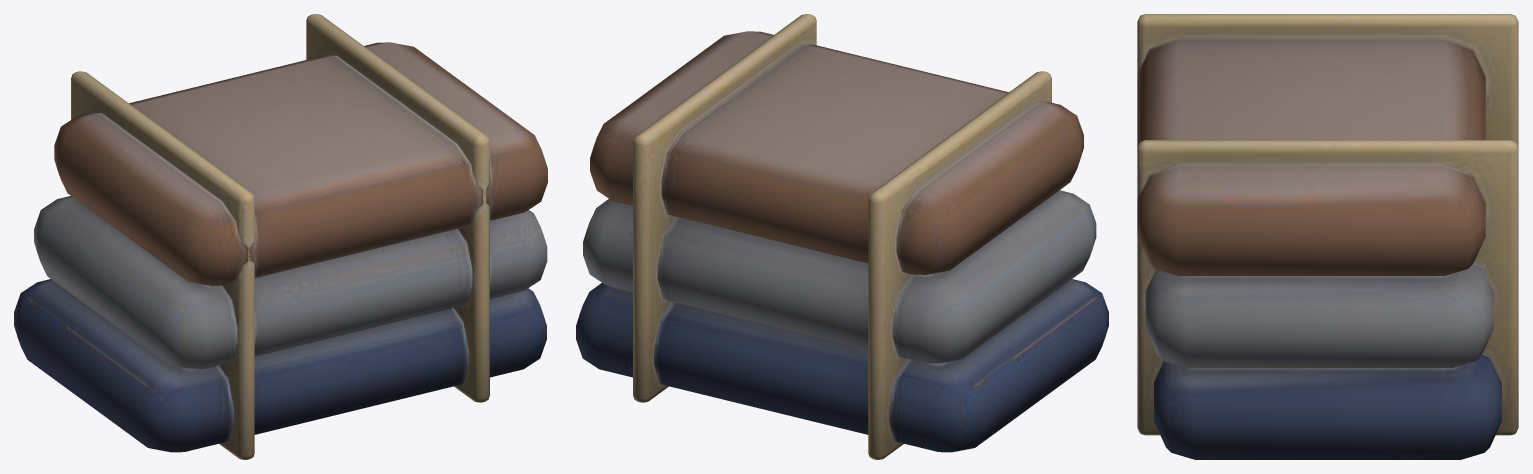
Rendered from item_blanket.glb.
3 renders of one model, left to right at view 1: azimuth 30°, elevation 25°; view 2: azimuth 150°, elevation 25°; view 3: azimuth 270°, elevation 25°, orthographic. The views are drawn at different scales.
Visible parts, largest first — view 1: item_blanket; view 2: item_blanket; view 3: item_blanket.
Boxes of the visible parts, left/top/right/bottom form: item_blanket: left=14, top=14, right=547, bottom=459; item_blanket: left=576, top=14, right=1108, bottom=459; item_blanket: left=1137, top=14, right=1518, bottom=459.
Size of the model in its own units: 0.62 by 0.39 by 0.46.
1 material, 1 textured.
